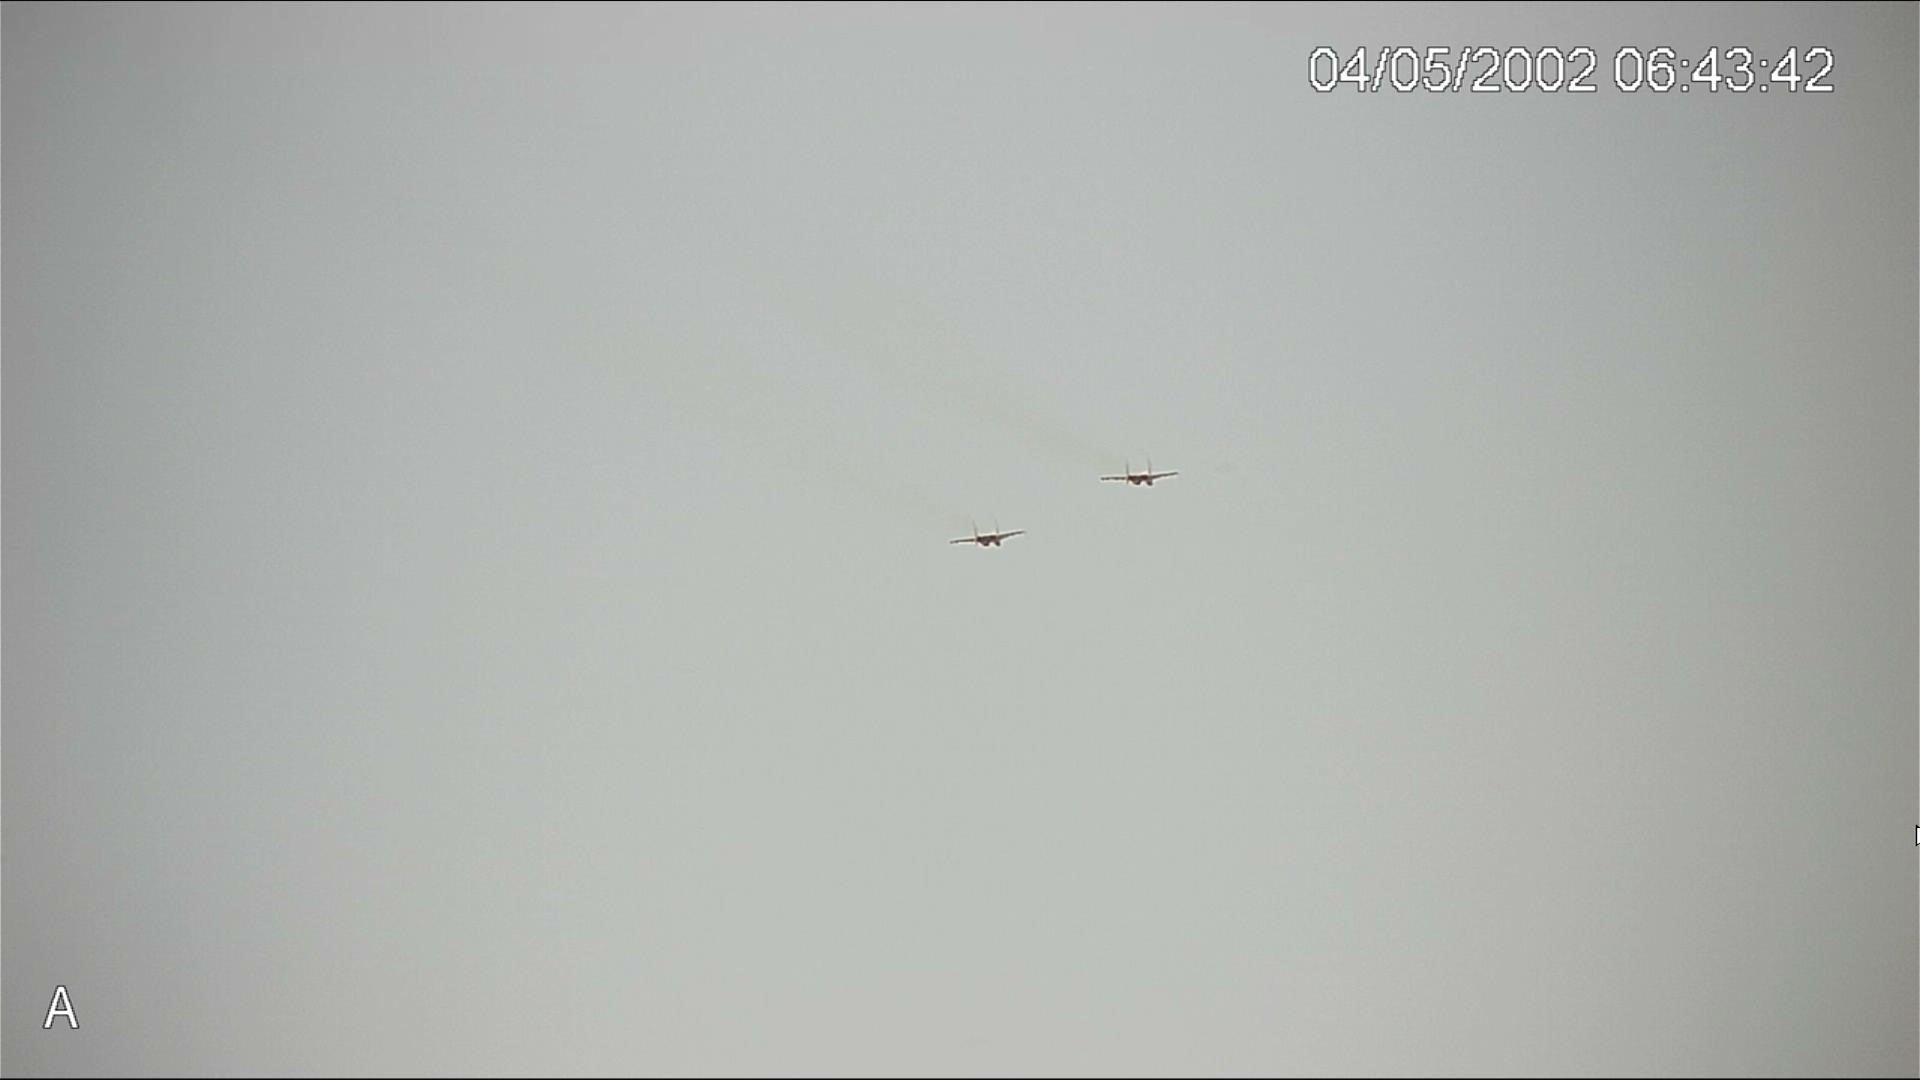SU_30: (1106, 458, 1182, 489), (955, 531, 1021, 545)
